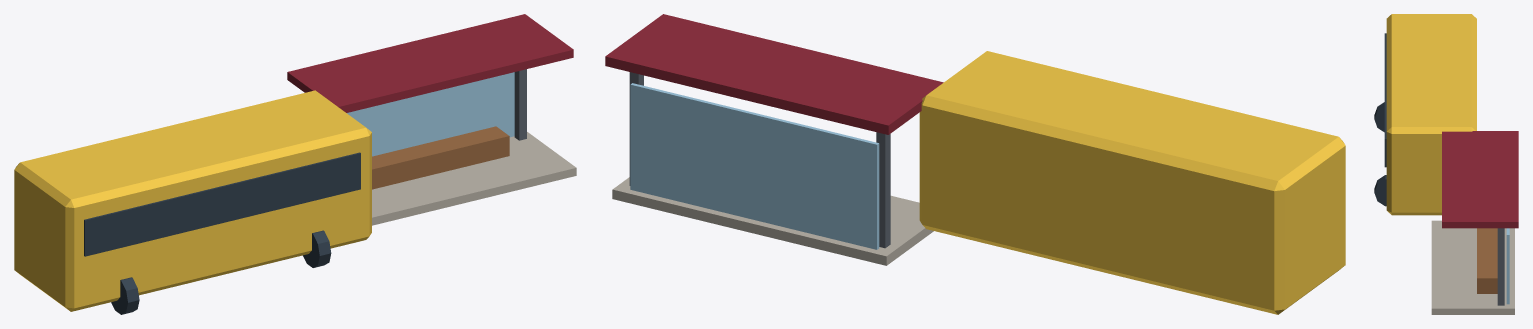
File: bus_stop.fbx
The picture shows the model from 3 angles, left to right: view 1: azimuth 30°, elevation 25°; view 2: azimuth 150°, elevation 25°; view 3: azimuth 270°, elevation 25°; orthographic projection. The views are drawn at different scales.
Parts seen in each view (by area): view 1: bus_stop; view 2: bus_stop; view 3: bus_stop.
Part boxes in pixels (x1,y1,x2,y2): bus_stop: (14,14,576,314); bus_stop: (605,14,1345,314); bus_stop: (1374,14,1518,314).
Bounding box in the file's own units: 14.1 × 3.1 × 4.15.
